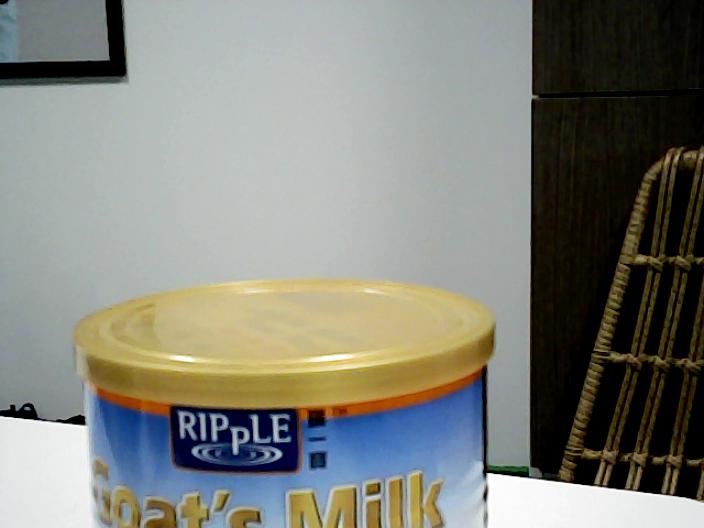Babymilk-powder_400-499g_Halal_NonHealthy: (77, 280, 497, 528)
